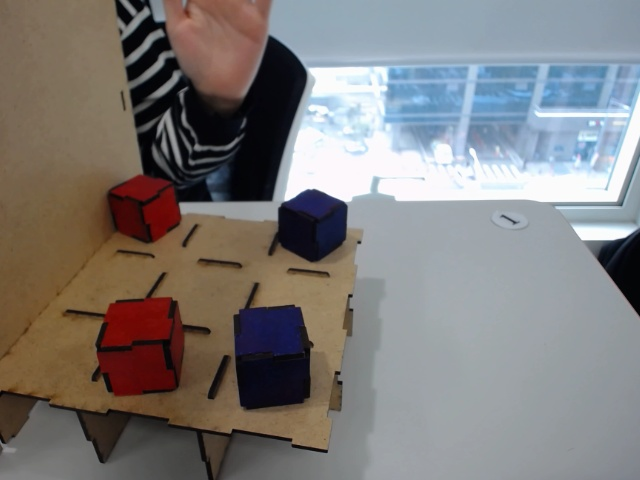blue: (231, 304, 311, 409), (279, 189, 347, 263)
red: (99, 296, 186, 398), (106, 175, 183, 243)
